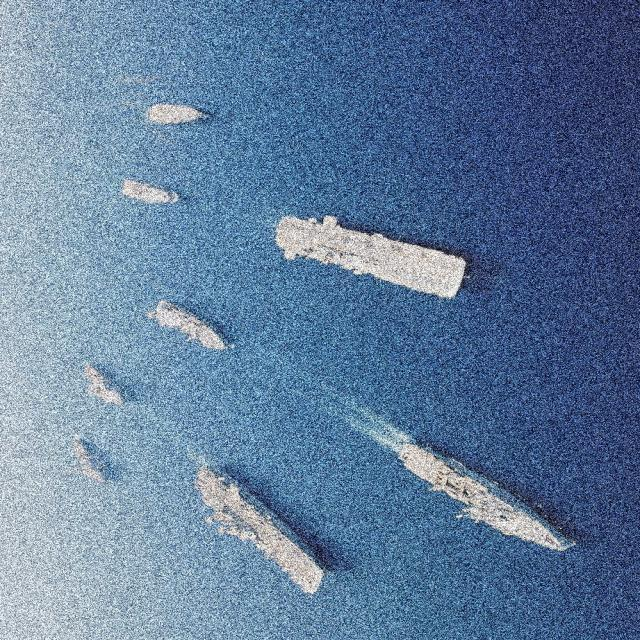ship2: (391, 438, 578, 556), (192, 462, 329, 597), (274, 217, 468, 302), (145, 296, 233, 354), (78, 363, 129, 412), (117, 179, 180, 208), (146, 104, 209, 127)
